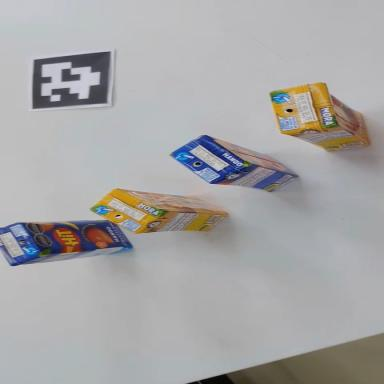HIT-MANGO: (166, 126, 300, 209), (0, 210, 132, 267)
HIT-MORA: (270, 76, 370, 160), (89, 186, 229, 244)
cara_F: (21, 212, 131, 257), (310, 84, 383, 149), (202, 135, 300, 179), (117, 189, 229, 218)
